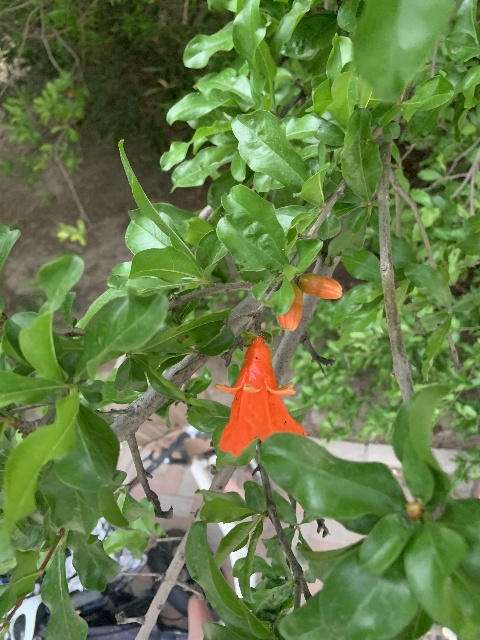bud: (278, 284, 302, 331), (299, 274, 342, 299)
flower: (216, 335, 307, 456)
